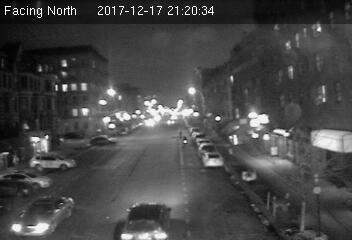car: (9, 195, 76, 237), (119, 198, 175, 240), (202, 151, 224, 167)
